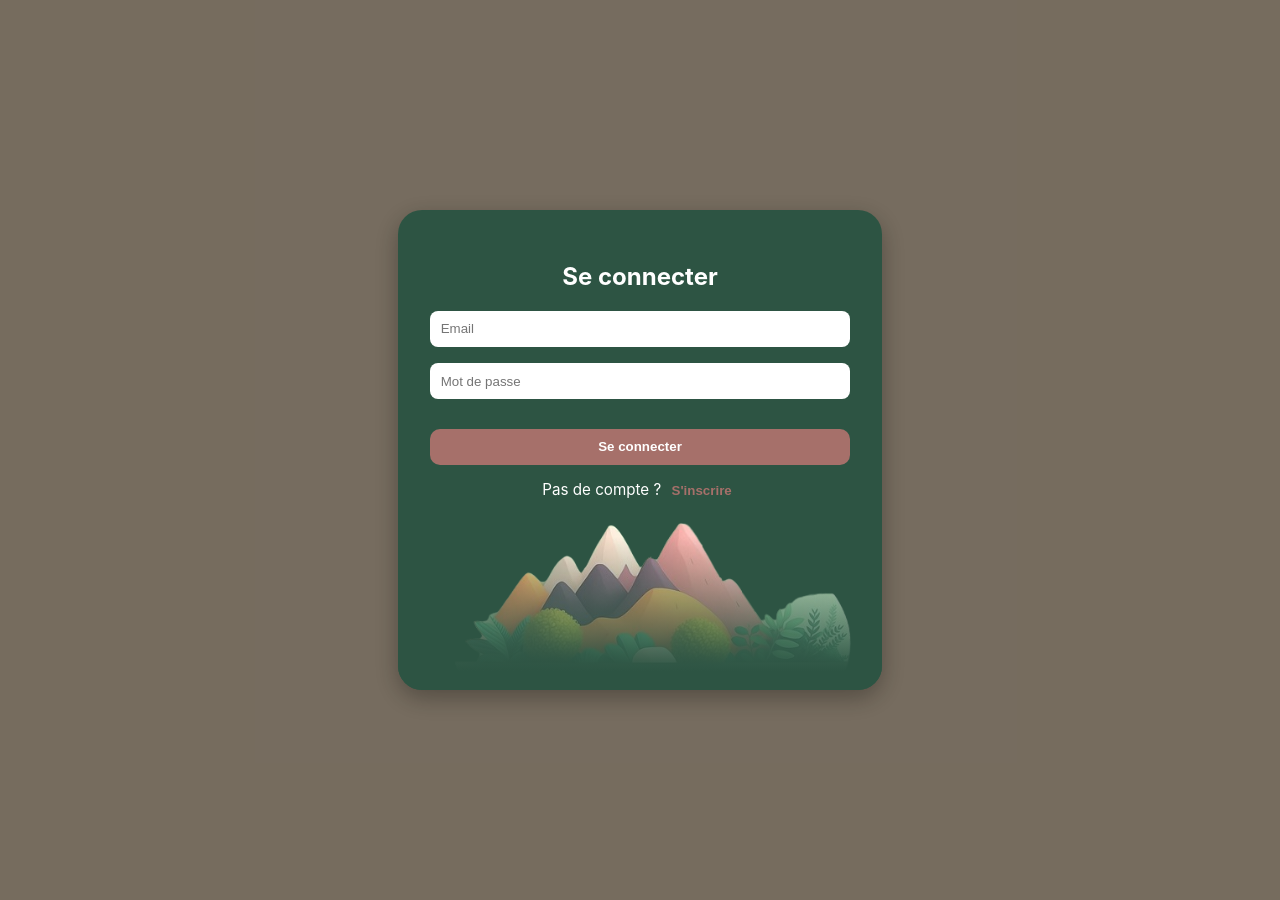
Scenario: AuthModal › bascule en mode inscription en cliquant sur 'S'inscrire'
Click the button "S'inscrire".
click(702, 491)  # box [666, 482, 738, 499]
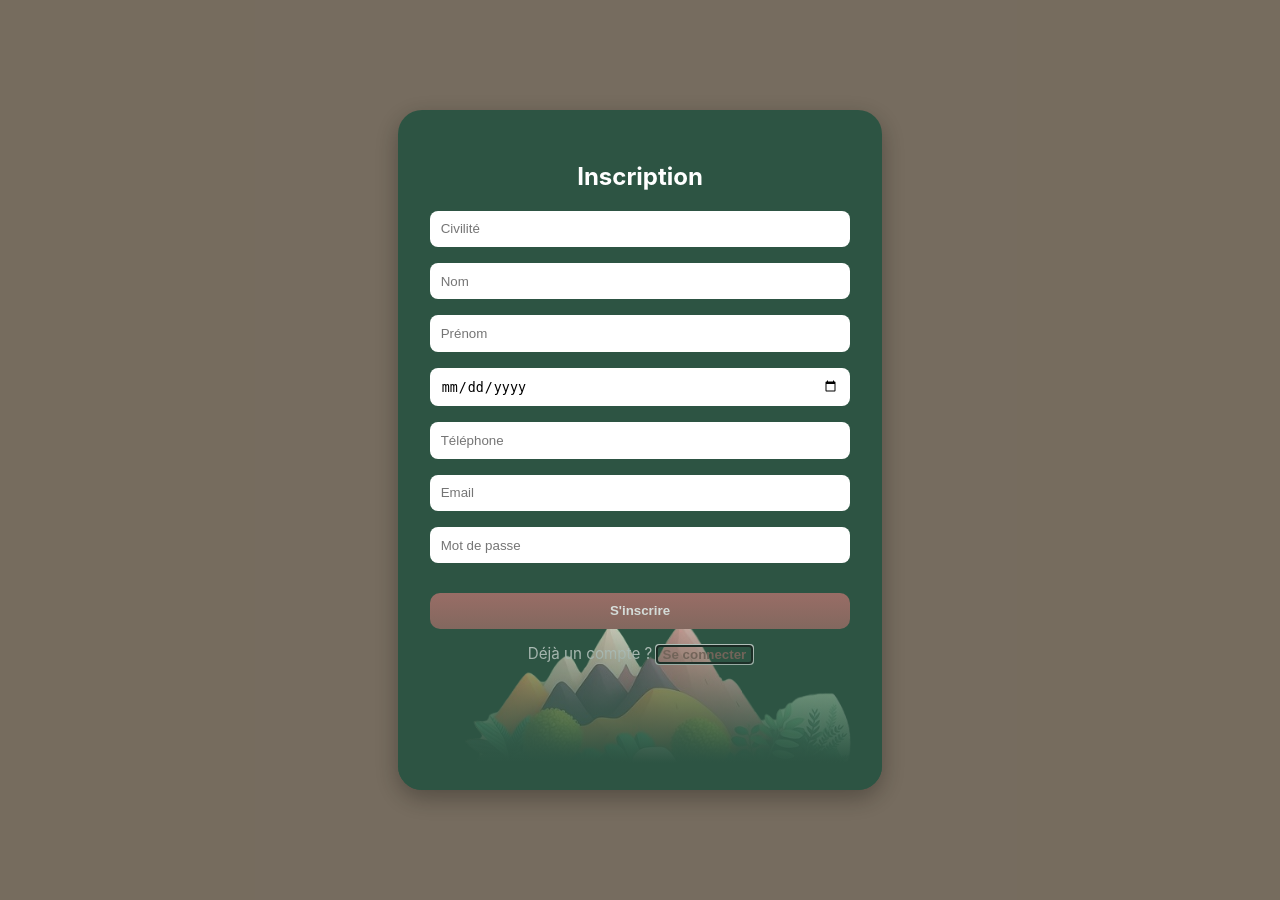
Expected: the heading "Inscription" is shown, [577, 162, 703, 191]
Expected: the field with placeholder "Nom" is shown, [430, 263, 850, 299]
Expected: the field with placeholder "Prénom" is shown, [430, 315, 850, 352]
